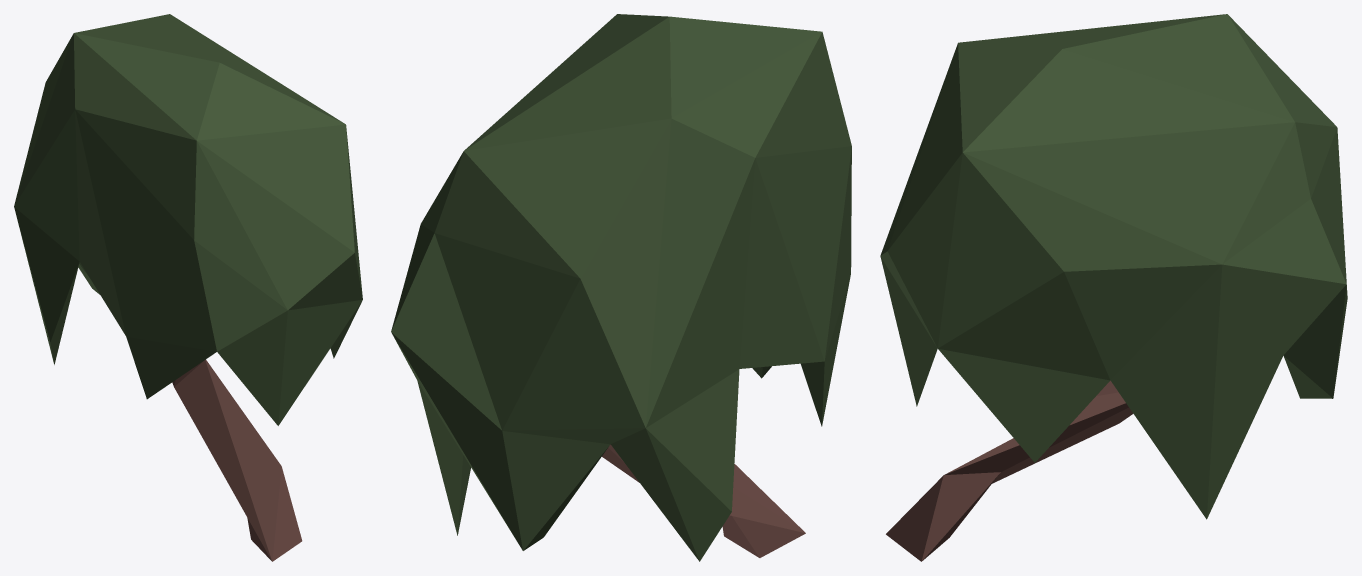
The model's file is Willow_3.lod3.glb.
3 renders of one model, left to right at view 1: azimuth 30°, elevation 25°; view 2: azimuth 150°, elevation 25°; view 3: azimuth 270°, elevation 25°, orthographic. The views are drawn at different scales.
Visible parts, largest first — view 1: Willow_3; view 2: Willow_3; view 3: Willow_3.
Boxes of the visible parts, <box> form: Willow_3: <box>14,14,362,561</box>; Willow_3: <box>391,14,851,561</box>; Willow_3: <box>880,14,1347,561</box>.
Size of the model in its own units: 1.26 by 2.31 by 1.95.
